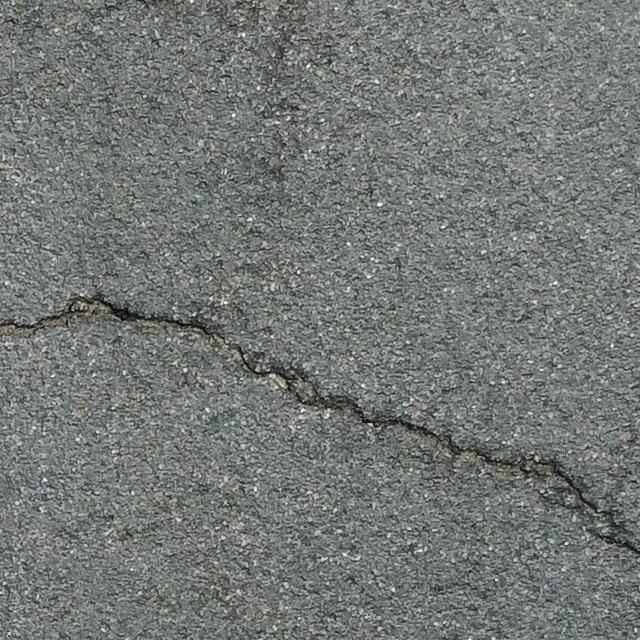TransverseCrack: (1, 292, 635, 548)
